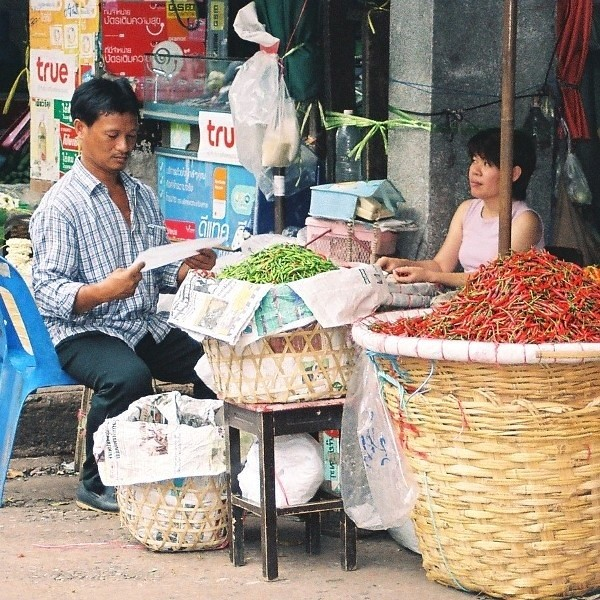face_no_mask: (71, 75, 138, 170), (467, 131, 528, 201)
